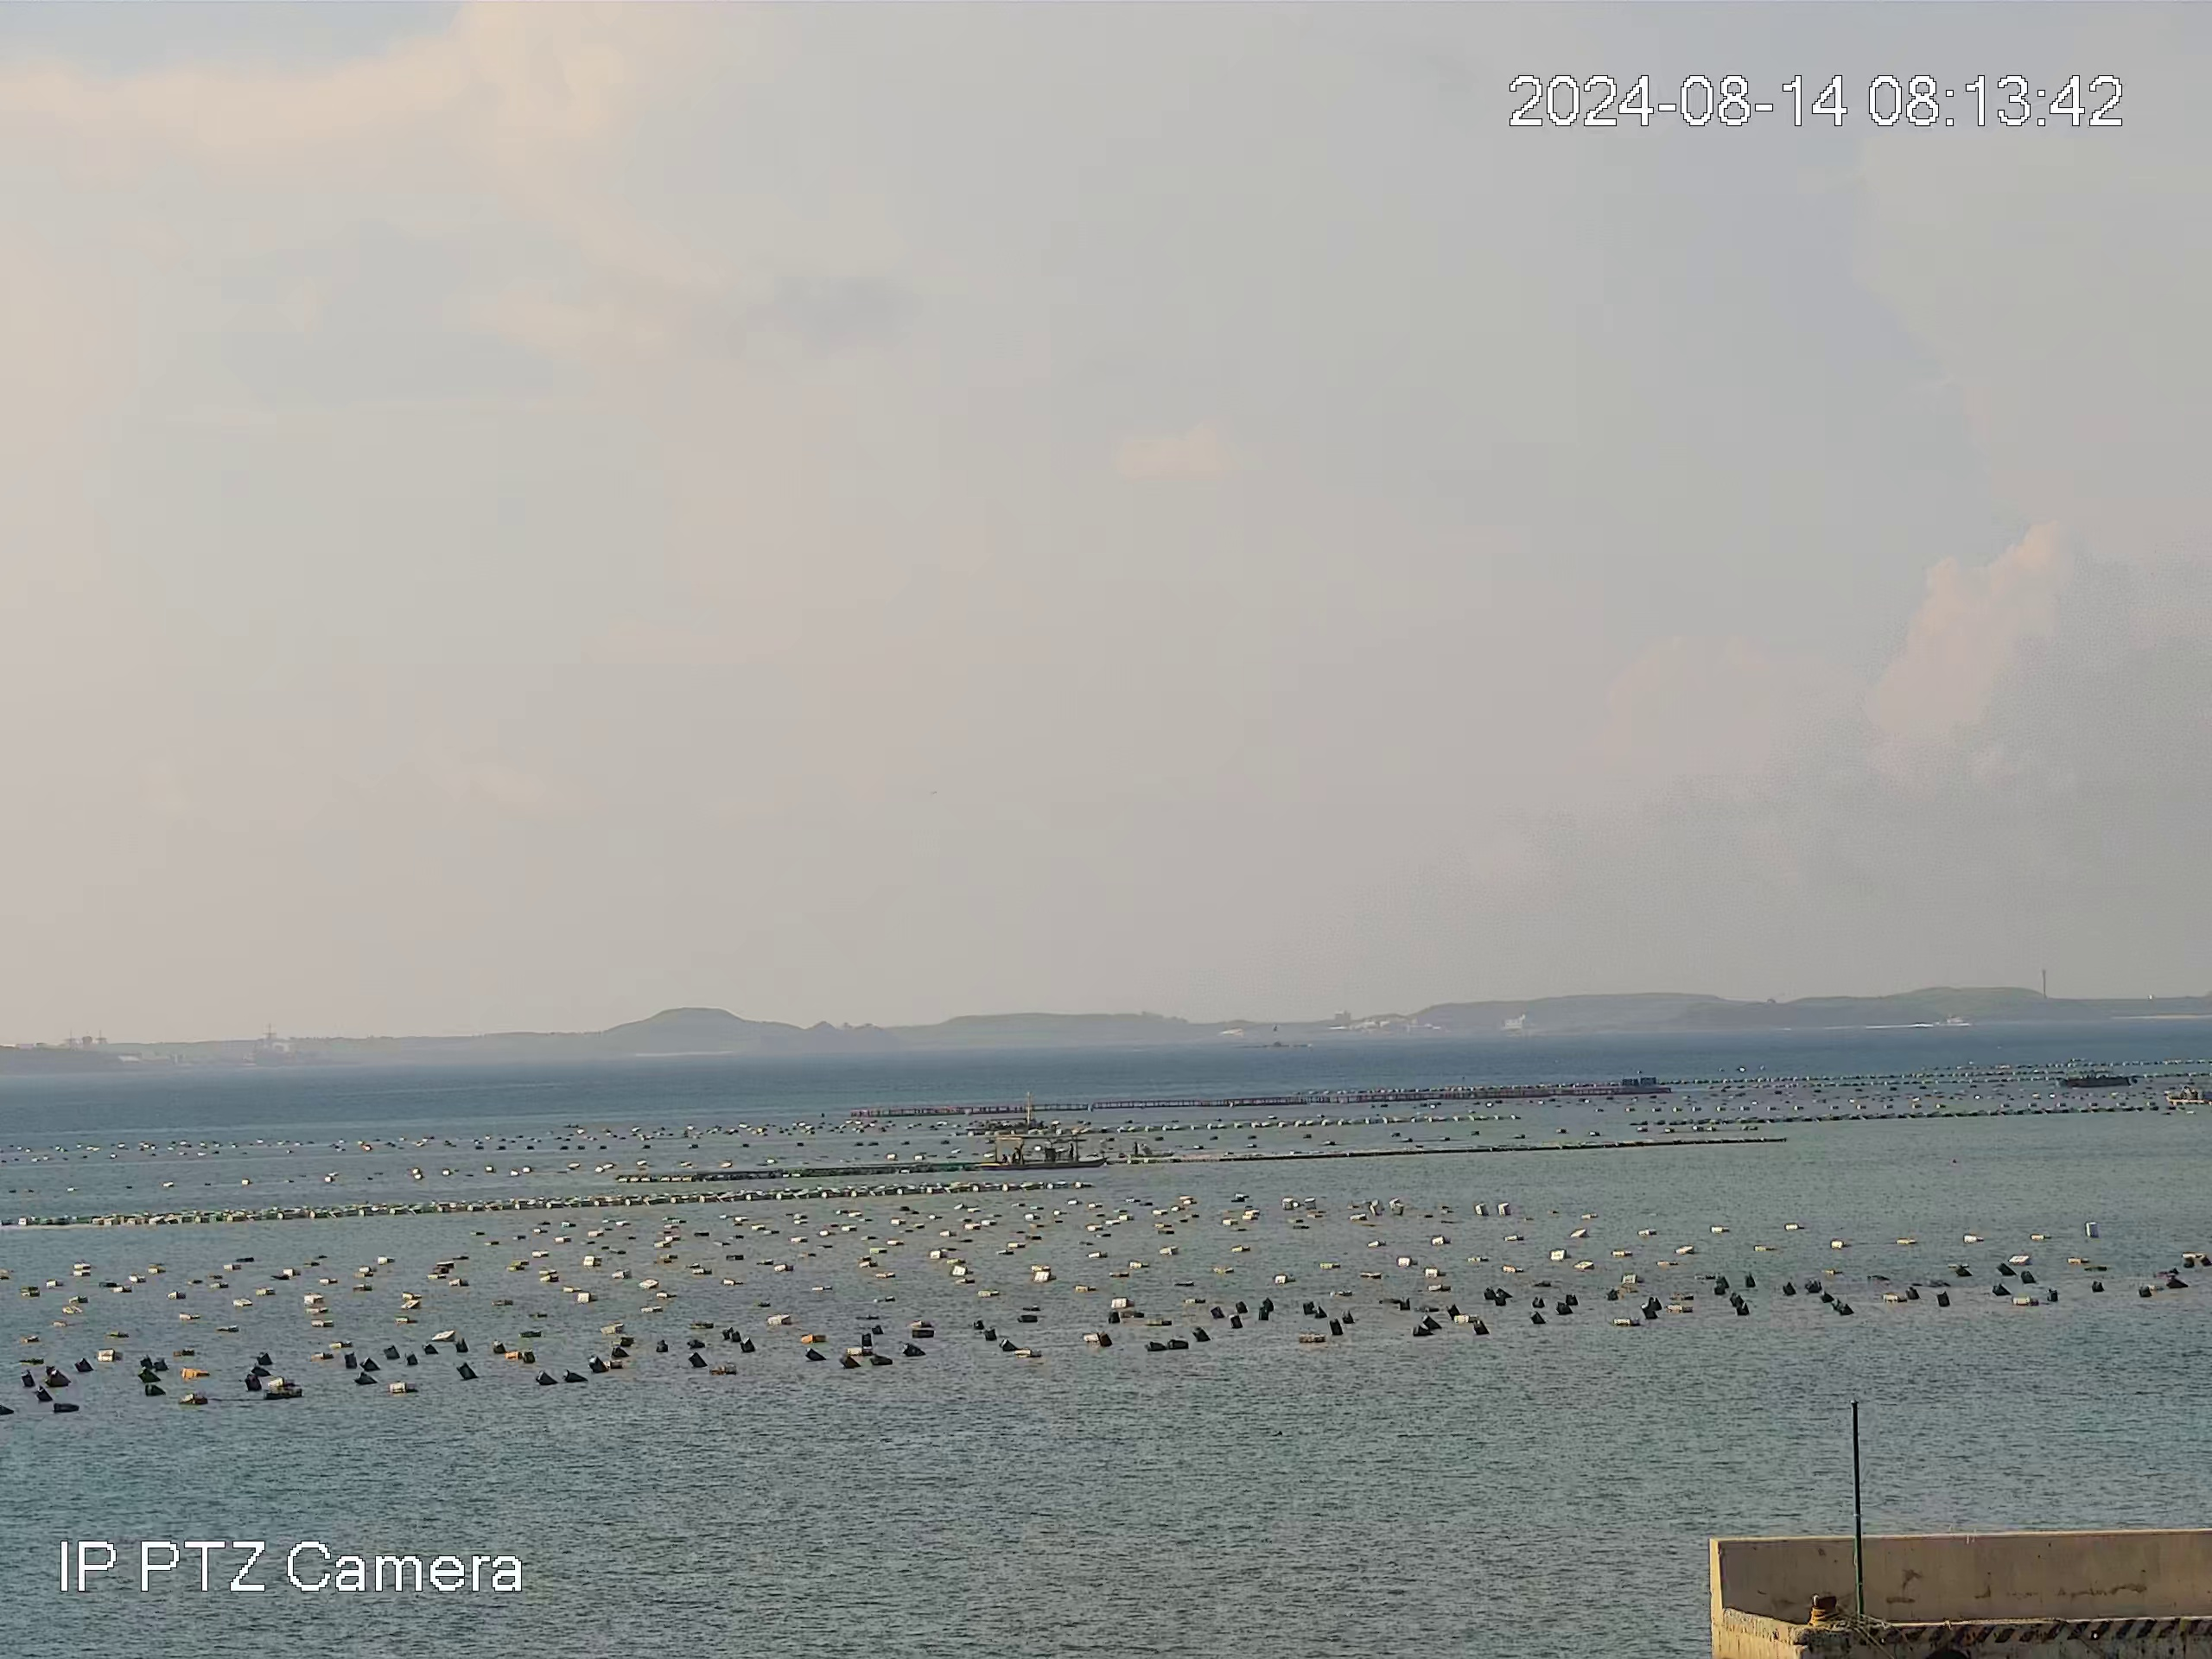boat: (980, 1125, 1107, 1171), (2058, 1071, 2139, 1087), (2165, 1084, 2210, 1104)
